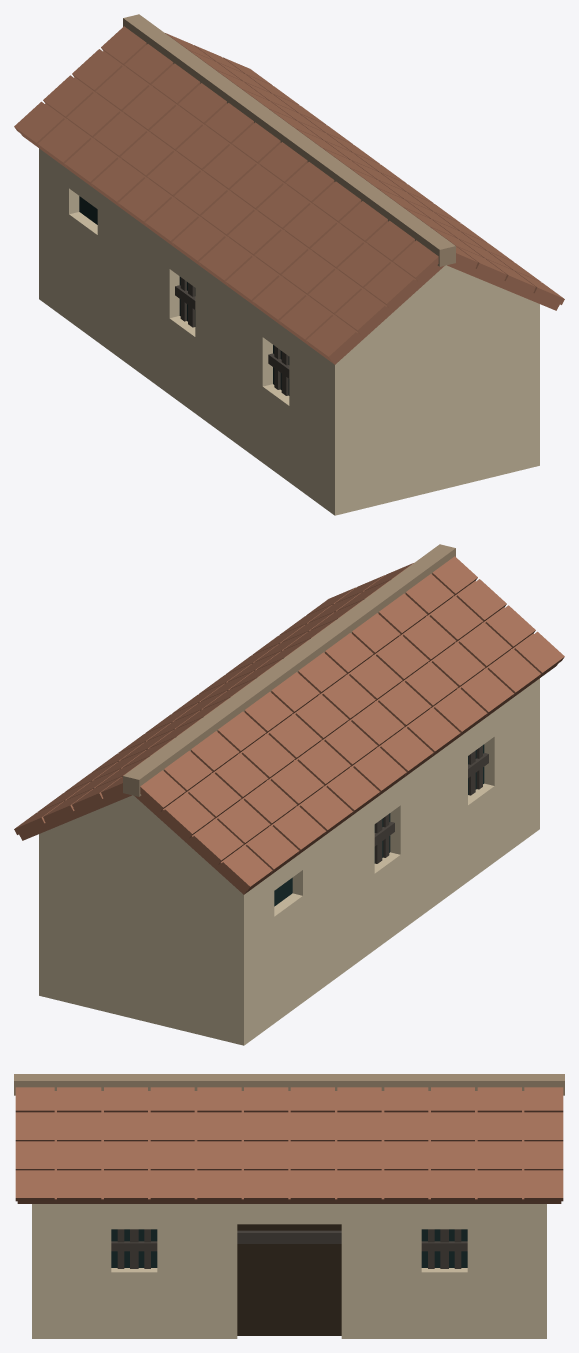
Rendered from Building_mode_L2_Northhouse015.fbx.
3 views of the same model, one above another, from view 1: azimuth 30°, elevation 25°; view 2: azimuth 150°, elevation 25°; view 3: azimuth 270°, elevation 25° (orthographic). The views are drawn at different scales.
Visible parts, largest first — view 1: Building_mode_L2_Northhouse015; view 2: Building_mode_L2_Northhouse015; view 3: Building_mode_L2_Northhouse015.
Part boxes in pixels (left/top/right/bottom): Building_mode_L2_Northhouse015: left=14, top=14, right=564, bottom=515; Building_mode_L2_Northhouse015: left=14, top=544, right=564, bottom=1045; Building_mode_L2_Northhouse015: left=14, top=1074, right=564, bottom=1338.
Bounding box in the file's own units: 2.79 × 2.83 × 6.49.
